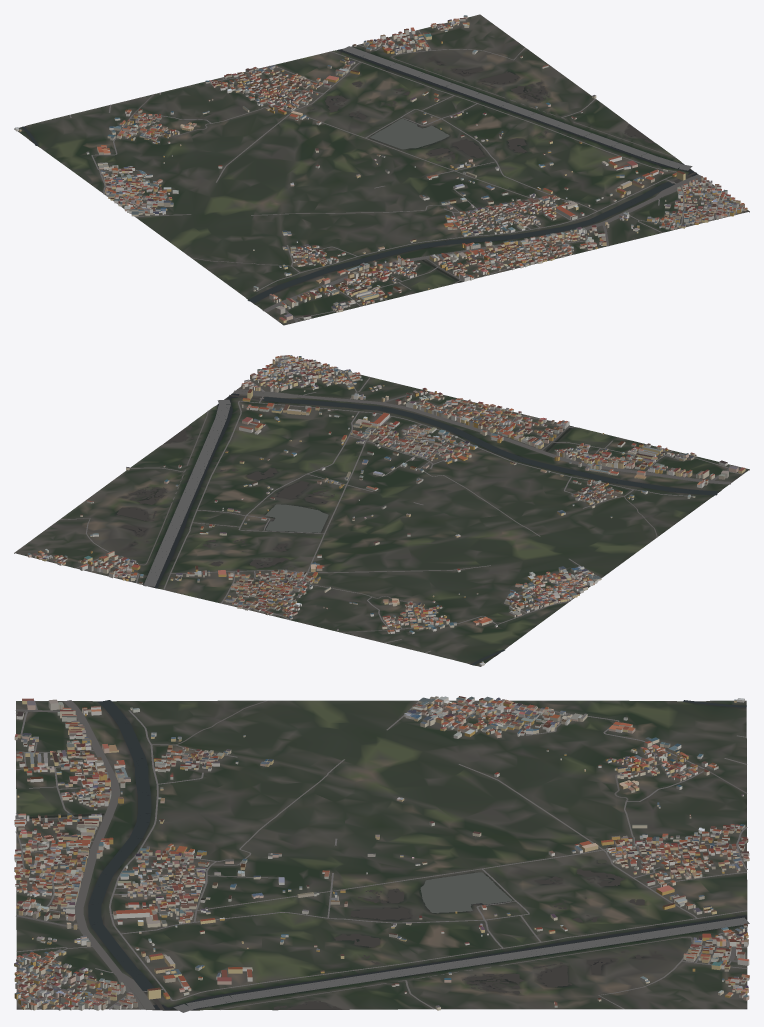
The picture shows the model from 3 angles, top to bottom: view 1: azimuth 30°, elevation 25°; view 2: azimuth 150°, elevation 25°; view 3: azimuth 270°, elevation 25°; orthographic projection. The views are drawn at different scales.
Parts seen in each view (by area): view 1: ground, buildings, water, roads; view 2: ground, buildings, water, roads; view 3: ground, buildings, water, roads.
Boxes of the visible parts, box(x1,y1,x2,y2) form: ground: box(14, 14, 749, 325); buildings: box(15, 15, 747, 323); water: box(21, 46, 697, 302); roads: box(69, 30, 739, 322); ground: box(14, 361, 749, 666); buildings: box(27, 355, 745, 666); water: box(116, 393, 717, 665); roads: box(59, 359, 742, 652); ground: box(16, 700, 747, 1010); buildings: box(14, 696, 749, 1010); water: box(26, 700, 749, 1012); roads: box(15, 700, 747, 1009).
Bounding box in the file's own units: 1420 × 23.05 × 1412.
